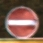No entry: (5, 6, 38, 38)
